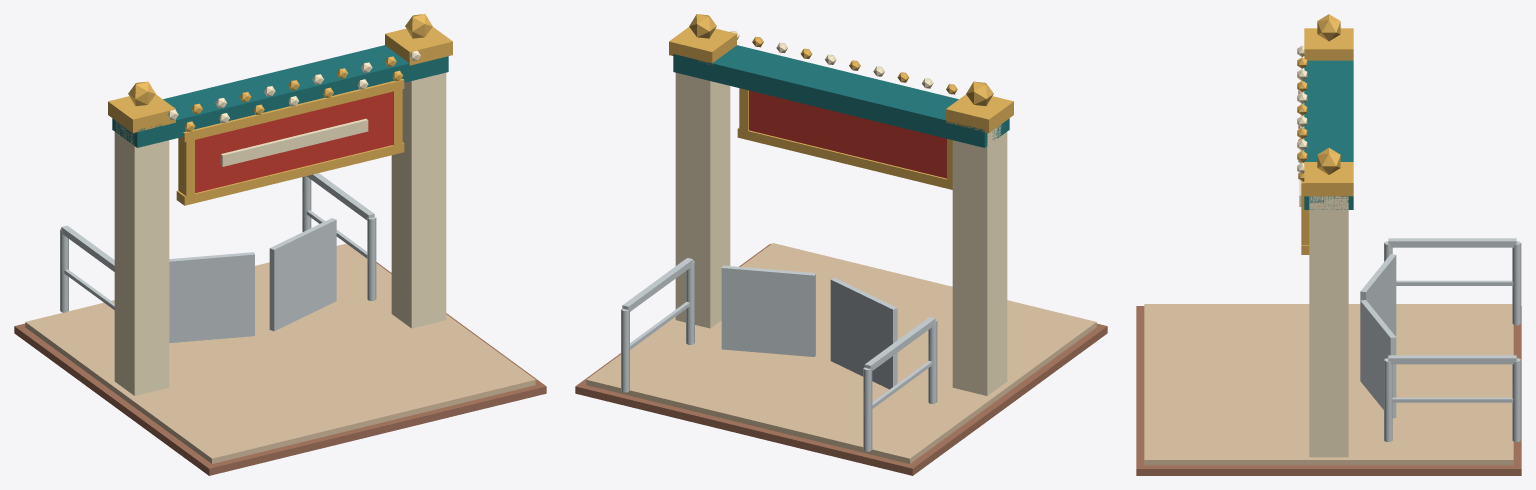
Rendered from ride_exit.glb.
3 renders of one model, left to right at view 1: azimuth 30°, elevation 25°; view 2: azimuth 150°, elevation 25°; view 3: azimuth 270°, elevation 25°, orthographic.
Parts seen in each view (by area): view 1: ride_exit; view 2: ride_exit; view 3: ride_exit.
Boxes of the visible parts, x1,y1,x2,y2 form: ride_exit: (14,14,546,475); ride_exit: (575,14,1107,475); ride_exit: (1136,14,1521,475).
Size of the model in its own units: 3.9 by 3.47 by 3.9.
